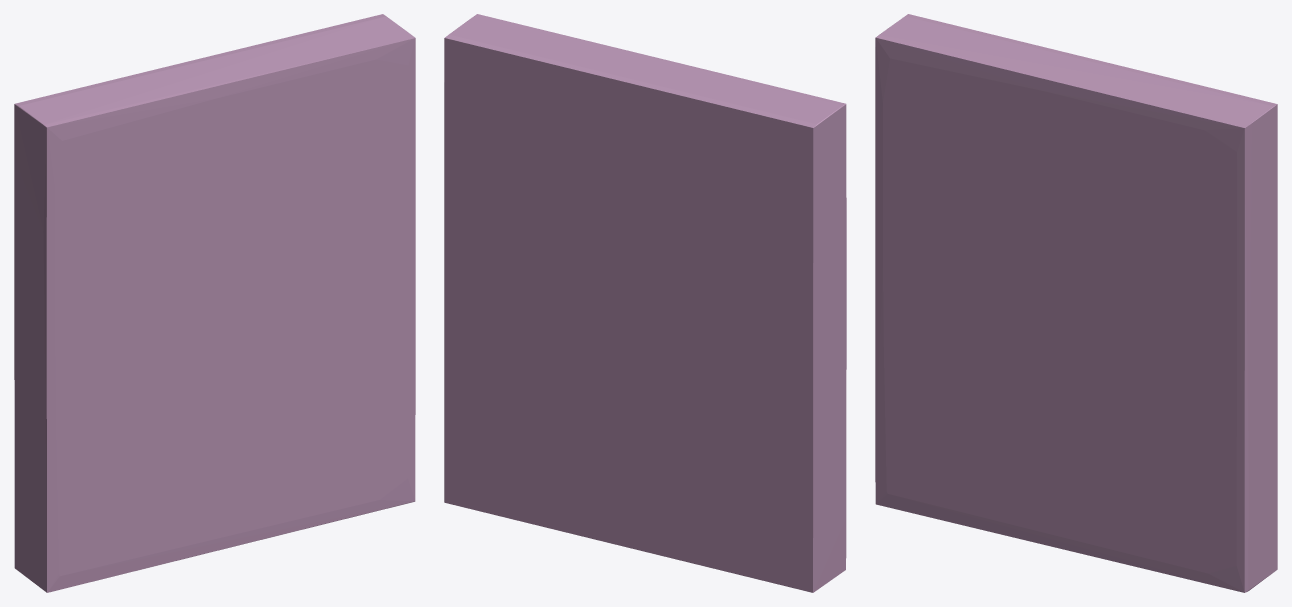
File: pallet_block_c01.glb
The picture shows the model from 3 angles, left to right: view 1: azimuth 30°, elevation 25°; view 2: azimuth 150°, elevation 25°; view 3: azimuth 330°, elevation 25°; orthographic projection.
Parts seen in each view (by area): view 1: geometry_0; view 2: geometry_0; view 3: geometry_0.
Boxes of the visible parts, x1,y1,x2,y2 form: geometry_0: [14, 14, 415, 592]; geometry_0: [444, 14, 846, 592]; geometry_0: [875, 14, 1277, 592].
Bounding box in the file's own units: 0.3981 × 0.4797 × 0.0618.
